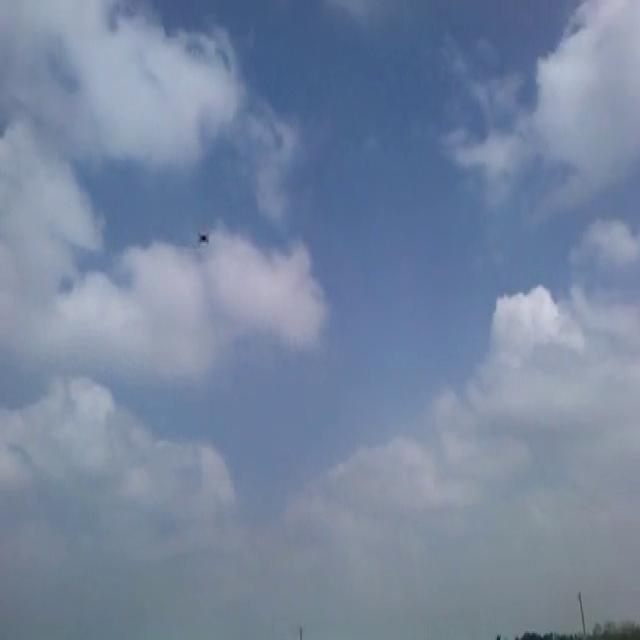drone: (197, 226, 210, 249)
